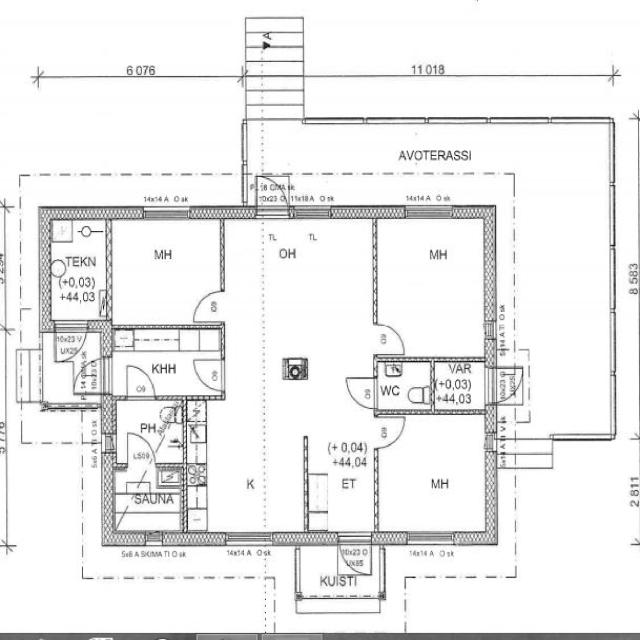door: (336, 532, 372, 577), (256, 175, 290, 219), (53, 322, 89, 363), (124, 362, 158, 402), (373, 320, 409, 357), (344, 375, 379, 412), (193, 355, 226, 394), (188, 288, 224, 323), (375, 413, 408, 451), (124, 430, 156, 468), (493, 366, 522, 406), (74, 358, 105, 394)
window: (404, 528, 457, 549), (141, 205, 191, 223), (224, 530, 272, 548), (404, 204, 454, 221), (482, 364, 499, 407), (292, 204, 332, 222), (0, 208, 8, 257), (131, 574, 146, 581)
zone: (374, 217, 488, 361), (376, 413, 491, 538), (108, 217, 222, 327), (114, 328, 224, 398), (46, 230, 110, 325), (374, 357, 434, 415), (114, 492, 185, 538), (432, 359, 488, 414), (123, 361, 159, 401)
